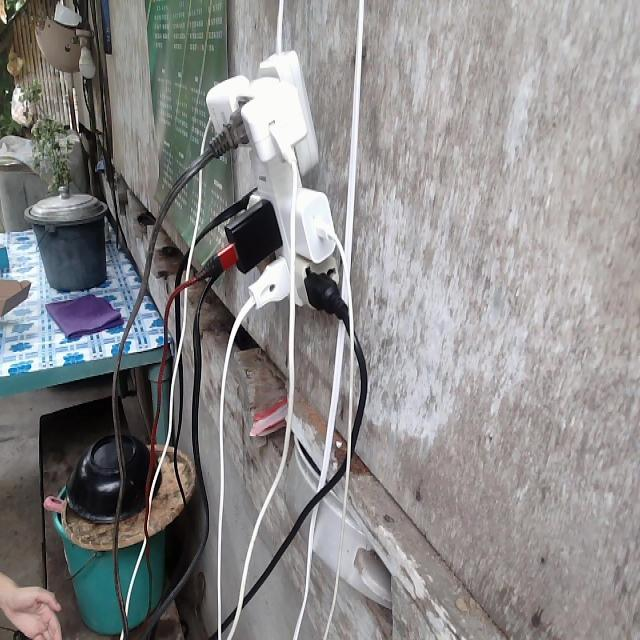-: (189, 42, 370, 406)
